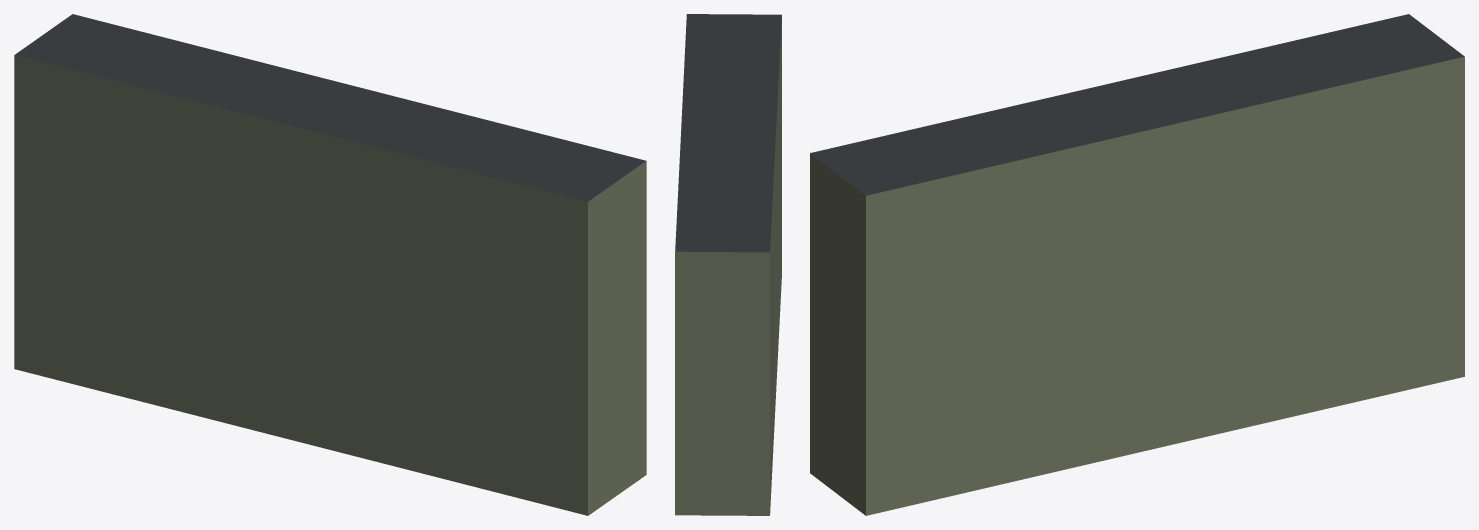
Rendered from nyc-1015251-0.glb.
3 renders of one model, left to right at view 1: azimuth 30°, elevation 25°; view 2: azimuth 150°, elevation 25°; view 3: azimuth 270°, elevation 25°, orthographic. The views are drawn at different scales.
Parts seen in each view (by area): view 1: nyc-1015251-0; view 2: nyc-1015251-0; view 3: nyc-1015251-0.
Boxes of the visible parts, x1,y1,x2,y2 form: nyc-1015251-0: (14,14,646,515); nyc-1015251-0: (675,14,781,515); nyc-1015251-0: (810,14,1464,515).
Bounding box in the file's own units: 20.23 × 16.61 × 30.79.
